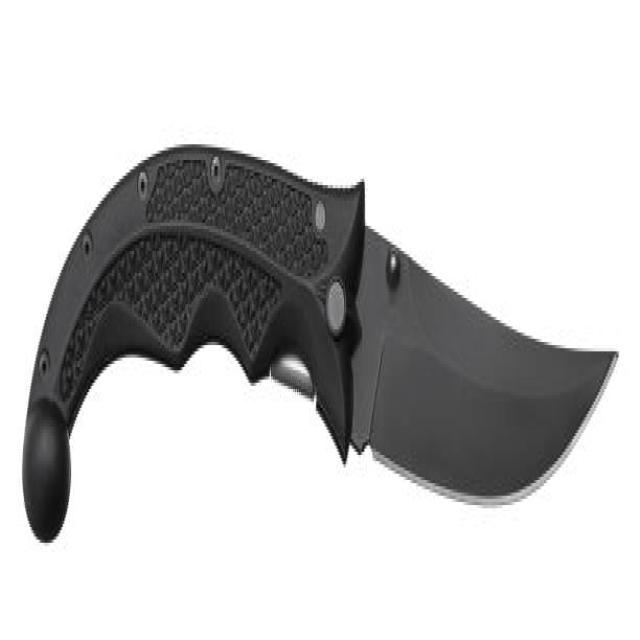knife: (19, 129, 613, 552)
